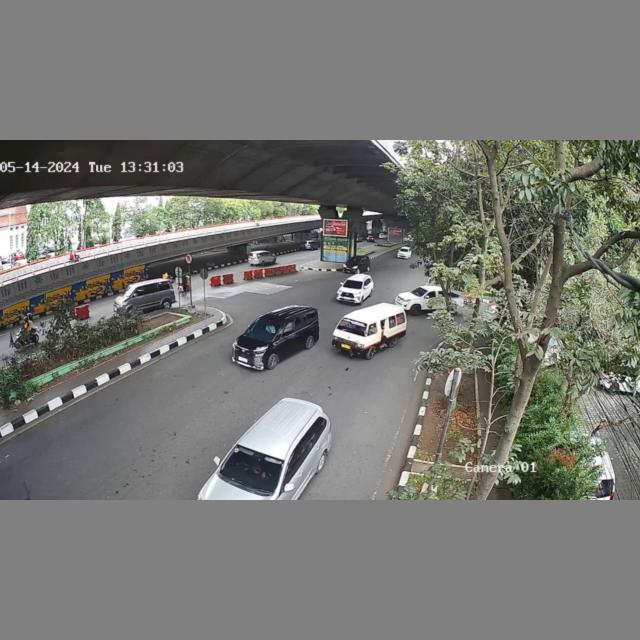windshield: (217, 445, 286, 492), (247, 318, 281, 340), (336, 317, 369, 338), (341, 279, 364, 292)
